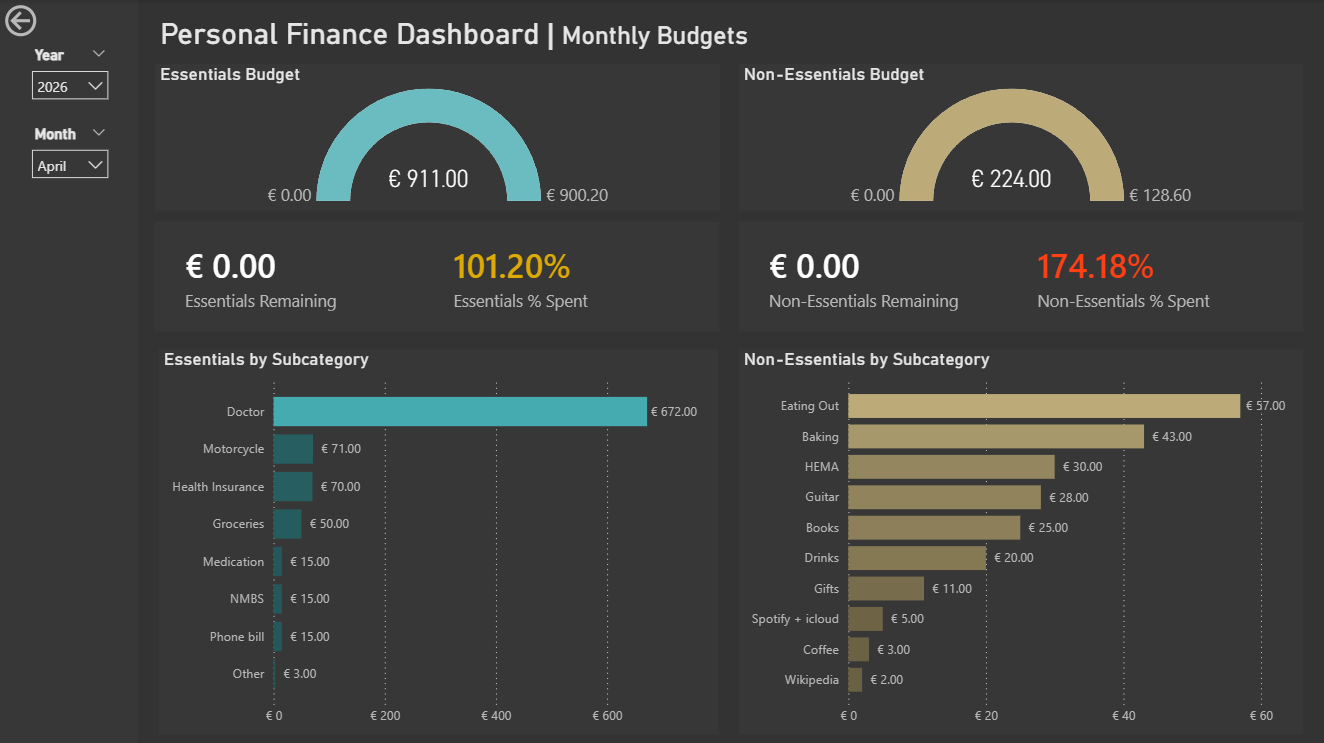

What the dashboard file says about the page in this screenshot:
{"tool":"powerbi","page":{"name":"Budgets","canvas":[1280,720],"ordinal":1},"visuals":[{"type":"shape","box":[0,0,134,719.8],"z":0},{"type":"slicer","fields":{"Values":["Full Table.Date.Variation.Date Hierarchy.Year"]},"box":[20,39.9,94.1,75.5],"z":1000},{"type":"actionButton","box":[0,0,100,40],"z":2000},{"type":"textbox","box":[149.6,10.9,760.1,49.5],"z":3000},{"type":"gauge","title":"Essentials Budget","fields":{"Y":["Full Table.Essentials"],"MaxValue":["Full Table.Essentials Threshold"]},"box":[149.7,61.3,545.9,142.5],"z":4000},{"type":"gauge","title":"Non-Essentials Budget","fields":{"Y":["Full Table.Non-Essentials"],"MaxValue":["Full Table.Non-Essentials Threshold"]},"box":[712.7,61.3,544.5,142.5],"z":5000},{"type":"slicer","fields":{"Values":["Full Table.Date.Variation.Date Hierarchy.Month"]},"box":[20,115.5,94.1,75.5],"z":6000},{"type":"cardVisual","fields":{"Data":["Full Table.Non-Essentials Remaining","Full Table.Non-Essentials % Spent"]},"box":[712.5,213.5,544.9,106.8],"z":7000},{"type":"cardVisual","fields":{"Data":["Full Table.Essentials Remaining","Full Table.Essentials % Spent"]},"box":[150.2,213.5,544.9,106.8],"z":8000},{"type":"barChart","fields":{"Y":["Full Table.Essentials"],"Category":["Full Table.Subcategory"]},"box":[152.7,336.4,540,372.4],"z":9000},{"type":"barChart","fields":{"Category":["Full Table.Subcategory"],"Y":["Full Table.Non-Essentials"]},"box":[712.5,336.4,544.9,372.4],"z":10000}]}

Visuals, with their boxes in screenshot pixels (x1, y1, x2, y2), scaled from the page's 1280x720 canvas onto the 1324x743 screenshot:
shape: Rect(0, 0, 139, 742)
slicer - Full Table.Date.Variation.Date Hierarchy.Year: Rect(21, 41, 118, 119)
actionButton: Rect(0, 0, 103, 41)
textbox: Rect(155, 11, 941, 62)
"Essentials Budget" gauge: Rect(155, 63, 720, 210)
"Non-Essentials Budget" gauge: Rect(737, 63, 1300, 210)
slicer - Full Table.Date.Variation.Date Hierarchy.Month: Rect(21, 119, 118, 197)
cardVisual - Full Table.Non-Essentials Remaining x Full Table.Non-Essentials % Spent: Rect(737, 220, 1301, 331)
cardVisual - Full Table.Essentials Remaining x Full Table.Essentials % Spent: Rect(155, 220, 719, 331)
barChart - Full Table.Essentials x Full Table.Subcategory: Rect(158, 347, 717, 731)
barChart - Full Table.Subcategory x Full Table.Non-Essentials: Rect(737, 347, 1301, 731)
